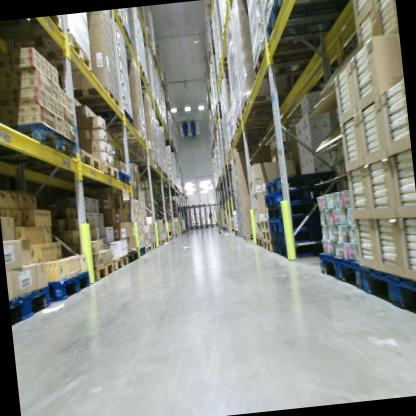pallet: (5, 27, 91, 82), (357, 257, 416, 330), (0, 116, 81, 168), (258, 0, 351, 45), (249, 30, 335, 76), (318, 243, 362, 299), (263, 168, 335, 201), (9, 283, 53, 330), (0, 15, 66, 46), (66, 82, 121, 115), (46, 269, 93, 306), (264, 194, 333, 218), (262, 185, 330, 209), (272, 235, 326, 262), (270, 224, 325, 249), (239, 91, 283, 121), (266, 212, 322, 234), (233, 110, 286, 132), (96, 106, 136, 132), (106, 127, 147, 148), (79, 142, 104, 175), (91, 259, 115, 285), (100, 155, 121, 183), (231, 126, 263, 143), (228, 134, 265, 147), (110, 253, 129, 273), (130, 156, 157, 169), (121, 24, 132, 50), (117, 167, 132, 184), (138, 73, 150, 91), (125, 248, 139, 263), (260, 228, 272, 242), (263, 239, 274, 254), (259, 217, 270, 232), (137, 57, 145, 77), (136, 243, 147, 257), (243, 231, 256, 242), (255, 235, 265, 248), (144, 242, 152, 252), (157, 238, 165, 247), (151, 242, 158, 251)
